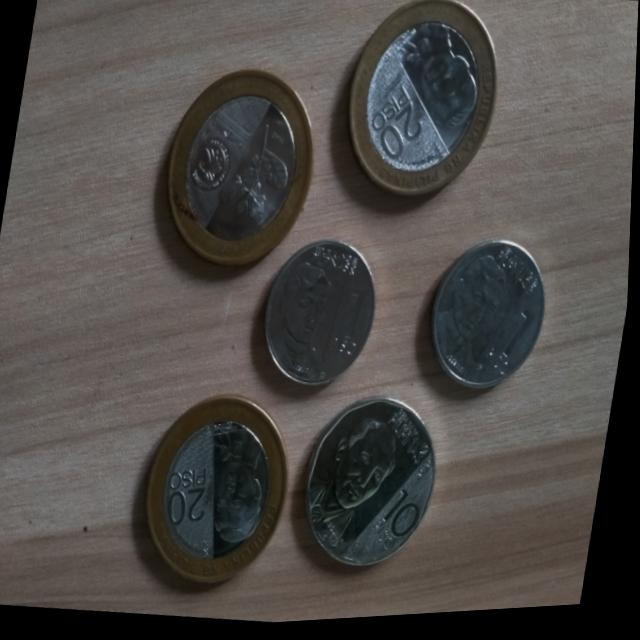10_New_Front: (369, 487, 433, 565)
1_New_Front: (488, 296, 539, 382)
20_New_Front: (356, 74, 439, 176), (159, 456, 228, 545)
